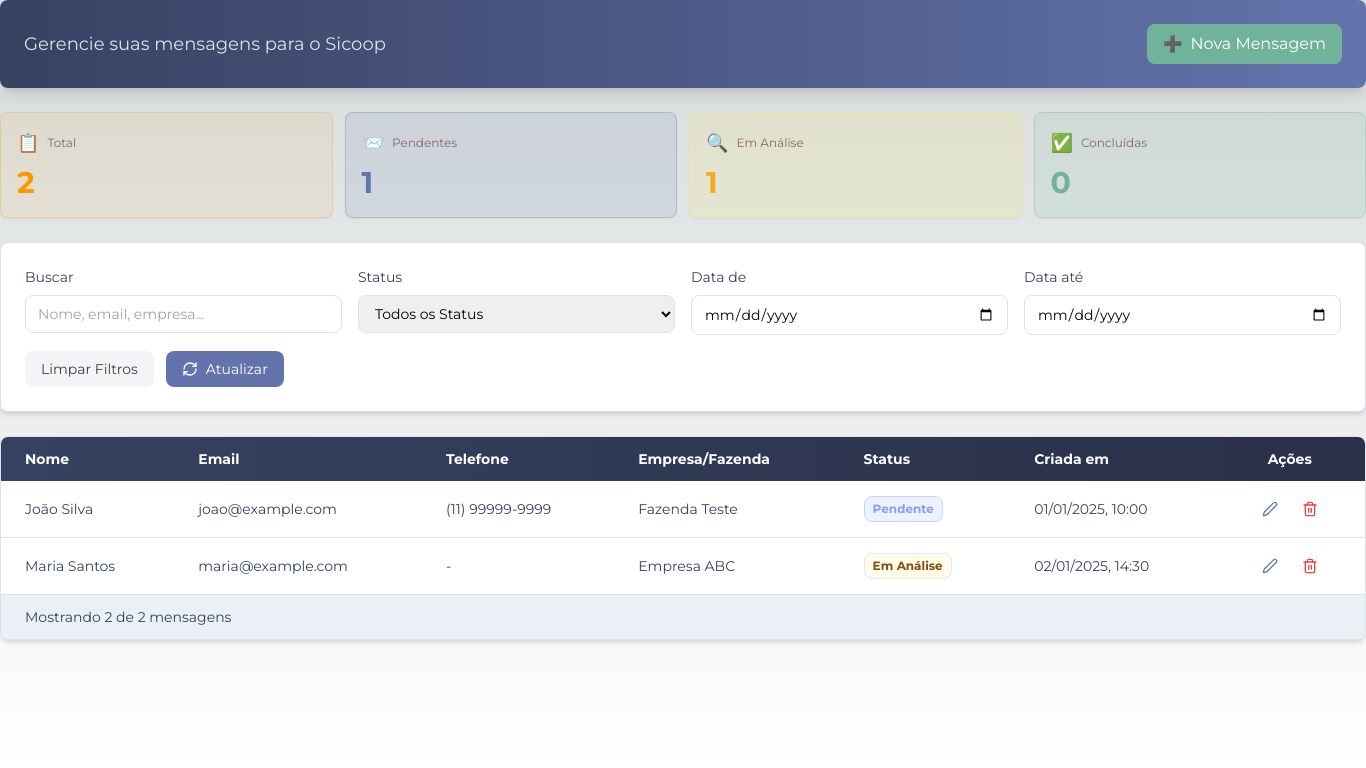
Test case: MensagensManager › deve abrir formulário quando botão Nova Mensagem é clicado
The width and height of the screenshot is (1366, 768).
Clicar no botão Nova Mensagem (texto está dividido em spans)
Click the button "➕ Nova Mensagem" at (1244, 44), box [1147,24,1342,64]
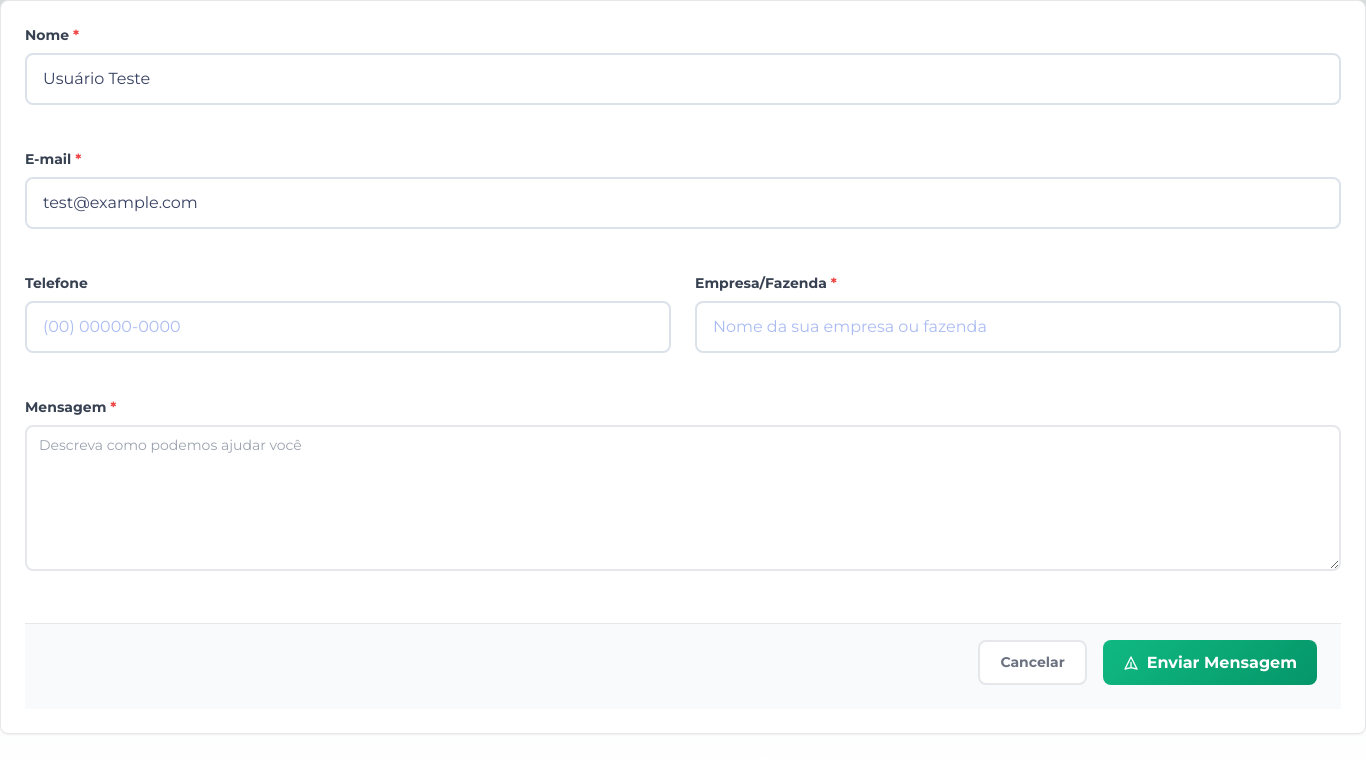
Check: the text "Nome" is shown, box [25,26,73,44]
Check: the text "E-mail" is shown, box [25,150,75,168]
Check: the text "Empresa/Fazenda" is shown, box [695,274,831,292]
